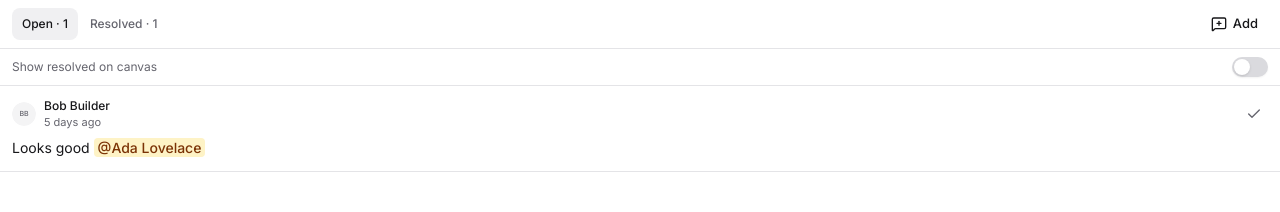
Test case: CommentsPanel › renders mentions as chips and filters resolved threads
Check: the text with test id "mention-chip" reads "@Ada Lovelace", box [94,138,205,156]
Check: the number of list items with test id "comment-thread" is 1, box [0,86,1279,172]
Click the radio button with test id "comments-filter-resolved" at (124, 24), box [80,8,168,40]
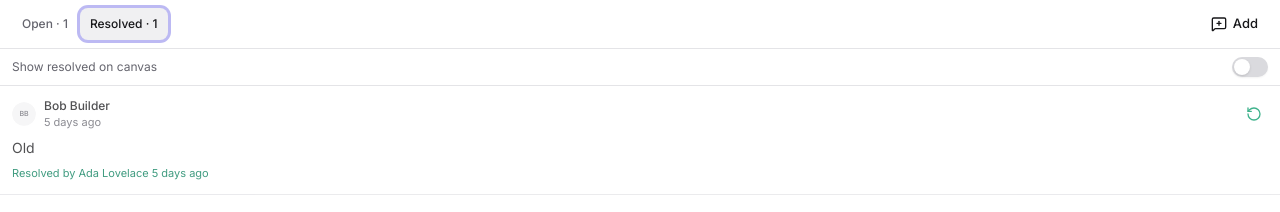
Check: the number of list items with test id "comment-thread" is 1, box [0,86,1279,195]
Check: the list item with test id "comment-thread" shows "Old", box [12,138,35,156]
